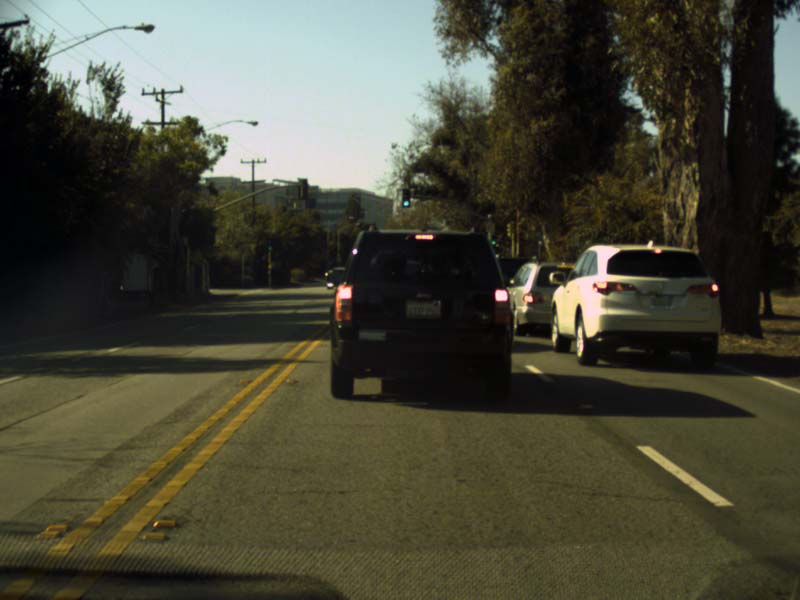Green: (402, 188, 409, 208), (490, 235, 496, 248), (267, 240, 273, 250)
